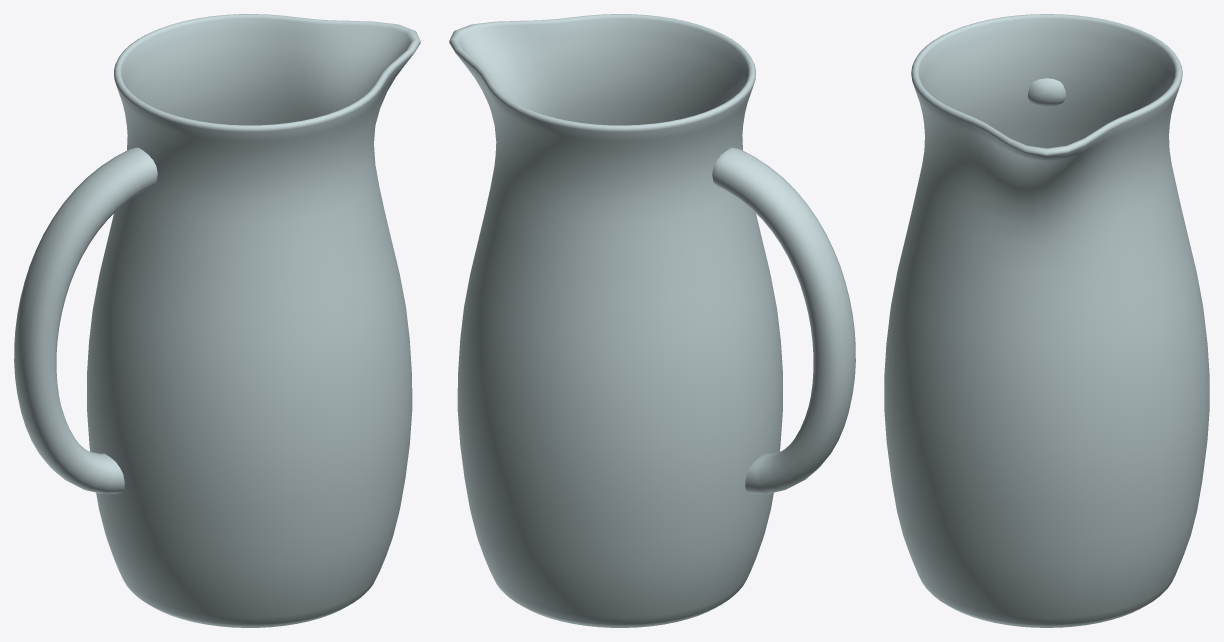
File: beer_mug.glb
3 views of the same model, side by side, from view 1: azimuth 30°, elevation 25°; view 2: azimuth 150°, elevation 25°; view 3: azimuth 270°, elevation 25° (orthographic).
Parts seen in each view (by area): view 1: pitcher_jug_glass; view 2: pitcher_jug_glass; view 3: pitcher_jug_glass.
Boxes of the visible parts, x1,y1,x2,y2 form: pitcher_jug_glass: (14, 14, 420, 627); pitcher_jug_glass: (449, 14, 855, 627); pitcher_jug_glass: (884, 14, 1209, 627).
Size of the model in its own units: 0.1943 by 0.2383 by 0.138.
